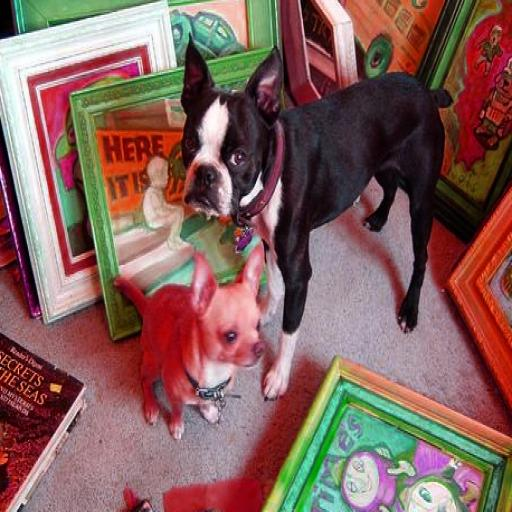dog_face: (170, 36, 287, 229)
